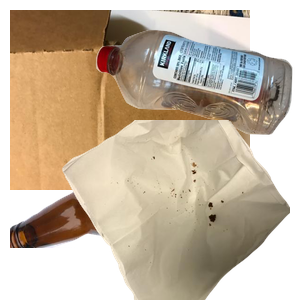cardboard: (10, 10, 250, 190)
glass: (10, 120, 247, 300)
plastic: (93, 27, 300, 154)
trash: (60, 120, 300, 300)
